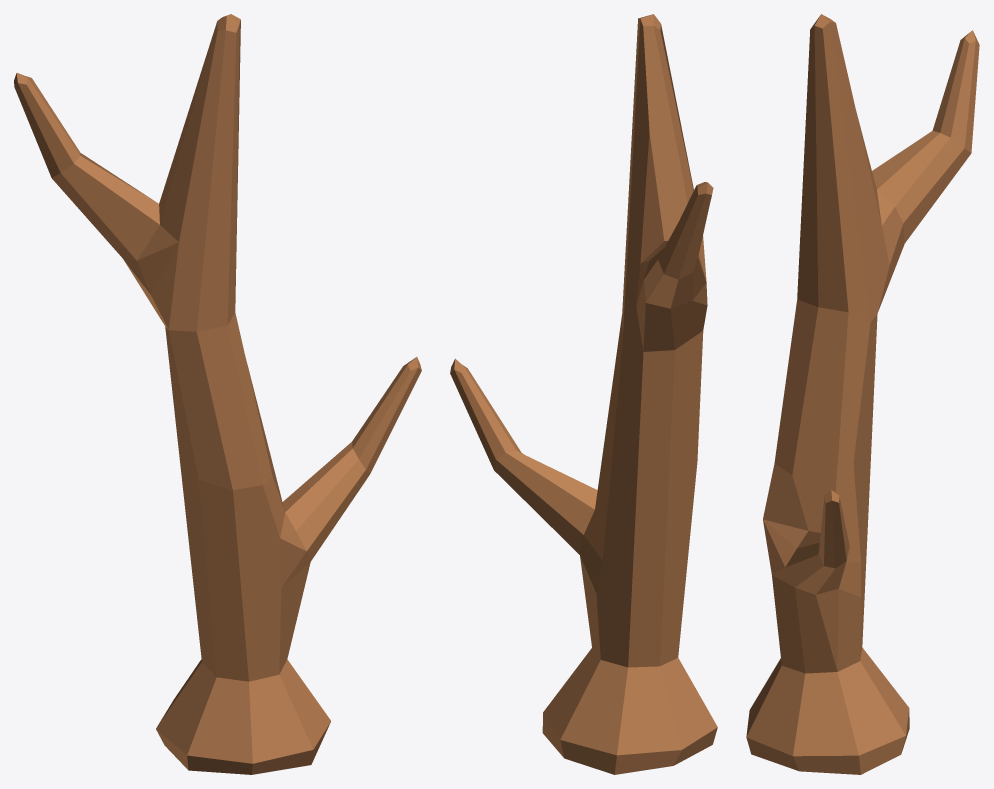
File: Tree11.fbx
3 renders of one model, left to right at view 1: azimuth 30°, elevation 25°; view 2: azimuth 150°, elevation 25°; view 3: azimuth 270°, elevation 25°, orthographic. The views are drawn at different scales.
Visible parts, largest first — view 1: Tree11; view 2: Tree11; view 3: Tree11.
Boxes of the visible parts, <box> form: Tree11: <box>14,14,421,774</box>; Tree11: <box>450,14,717,774</box>; Tree11: <box>746,14,979,774</box>.
Bounding box in the file's own units: 219 × 460 × 135.
